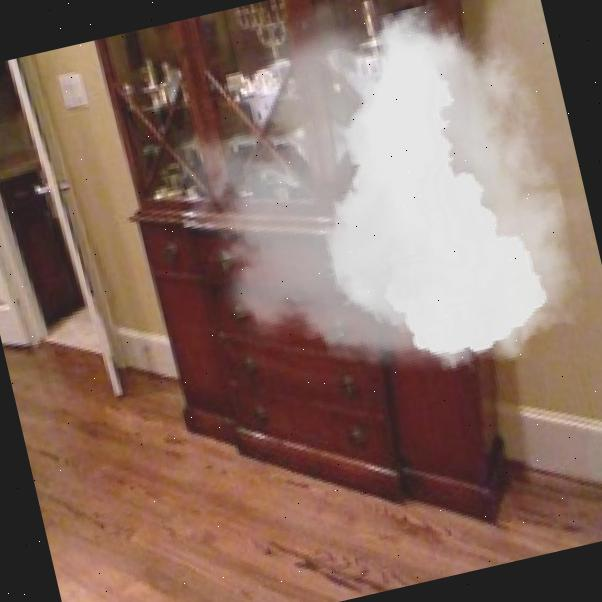smoke: (126, 0, 602, 441)
